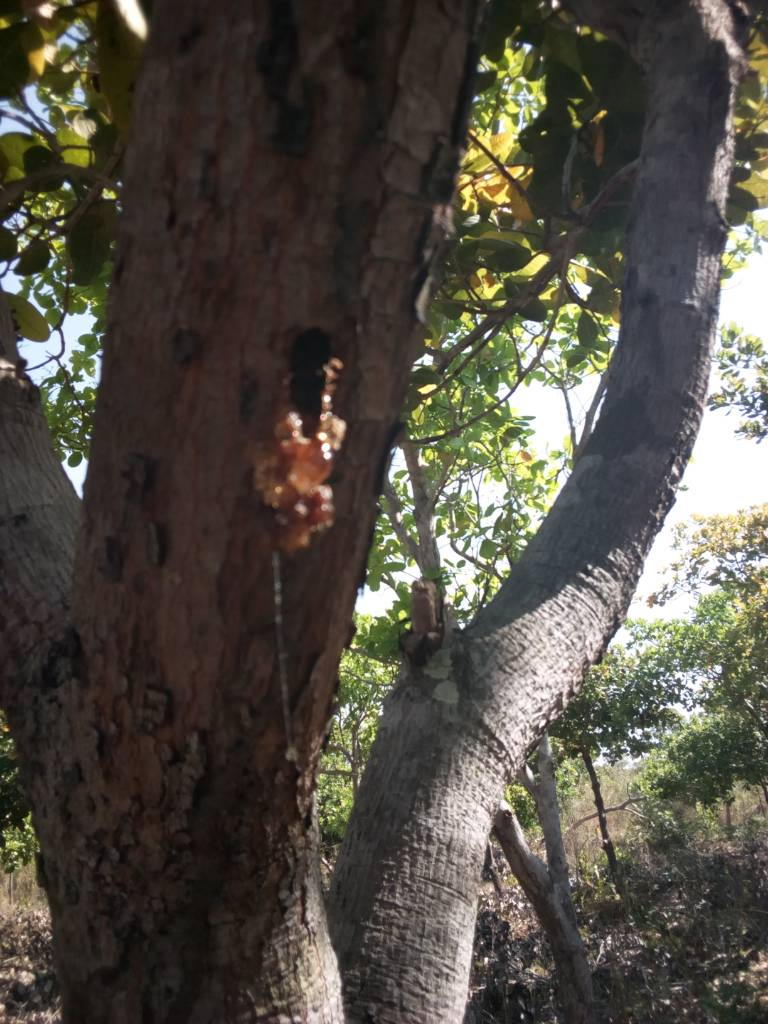Apate terebrans: (251, 300, 402, 383)
